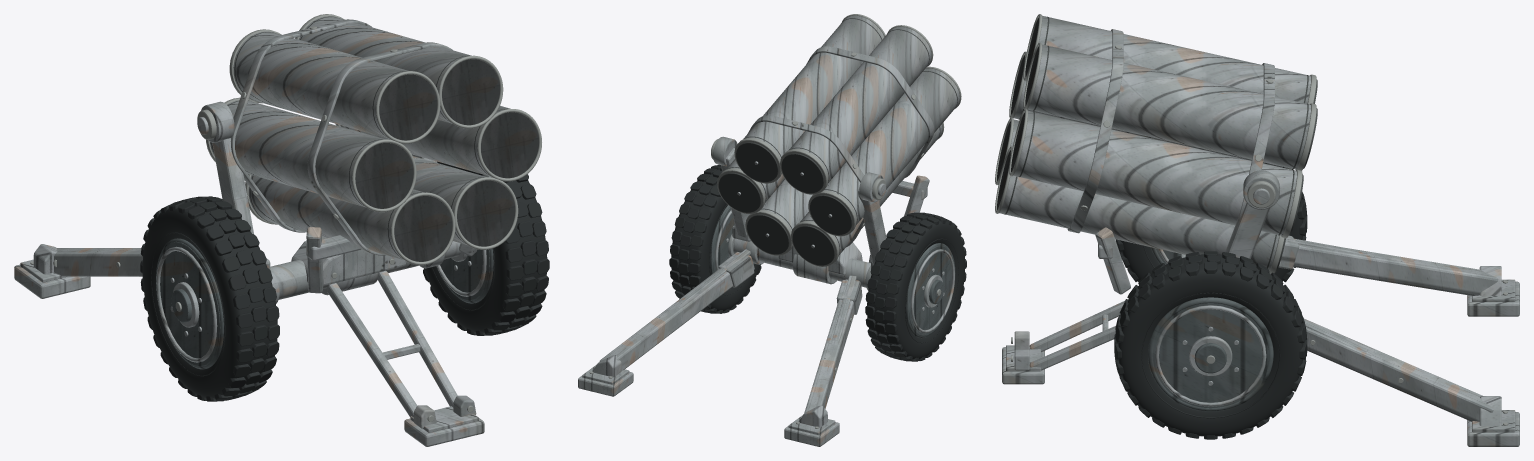
Rendered from firefox-static.glb.
The picture shows the model from 3 angles, left to right: view 1: azimuth 30°, elevation 25°; view 2: azimuth 150°, elevation 25°; view 3: azimuth 270°, elevation 25°; orthographic projection. The views are drawn at different scales.
Visible parts, largest first — view 1: N41_Solid_Tube_3, N41_Solid_Tube_4, N41_Wheel_Carcass_-1, N41_Solid_Tube_5, N41_Solid_Tube_2, N41_Solid_Tube_1, N41_Solid_Tube_6, N41_Wheel_Carcass_1, N41_Wheel_Disc_-1_-1, N41_Trail_Beam_-1, N41_Exterior_Bundle_Band_1, N41_Exterior_Bundle_Band_2 (+22 smaller); view 2: N41_Solid_Tube_3, N41_Solid_Tube_4, N41_Solid_Tube_2, N41_Wheel_Carcass_-1, N41_Trail_Beam_1, N41_Wheel_Carcass_1, N41_Wheel_Disc_-1_-1, N41_Trail_Beam_-1, N41_Exterior_Bundle_Band_1, N41_Solid_Tube_6, N41_Shallow_Dark_End_1_1, N41_Shallow_Dark_End_3_1 (+31 smaller); view 3: N41_Solid_Tube_2, N41_Solid_Tube_1, N41_Wheel_Carcass_1, N41_Solid_Tube_6, N41_Solid_Tube_3, N41_Wheel_Disc_1_1, N41_Trail_Beam_1, N41_Trail_Beam_-1, N41_Exterior_Bundle_Band_1, N41_Rolled_Rim_Lip_1_1, N41_Inner_Disc_Recess_1_1, N41_Exterior_Bundle_Band_2 (+15 smaller).
Boxes of the visible parts, <box> form: N41_Solid_Tube_3: <box>233,31,437,140</box>; N41_Solid_Tube_4: <box>210,100,413,208</box>; N41_Wheel_Carcass_-1: <box>142,203,277,398</box>; N41_Solid_Tube_5: <box>248,175,452,261</box>; N41_Solid_Tube_2: <box>299,16,499,125</box>; N41_Solid_Tube_1: <box>340,105,538,178</box>; N41_Solid_Tube_6: <box>412,156,515,246</box>; N41_Wheel_Carcass_1: <box>424,161,547,332</box>; N41_Wheel_Disc_-1_-1: <box>156,241,220,366</box>; N41_Trail_Beam_-1: <box>54,248,142,276</box>; N41_Exterior_Bundle_Band_1: <box>307,42,490,255</box>; N41_Exterior_Bundle_Band_2: <box>230,19,371,232</box>; N41_Solid_Tube_3: <box>789,27,931,182</box>; N41_Solid_Tube_4: <box>824,68,959,224</box>; N41_Solid_Tube_2: <box>743,15,884,158</box>; N41_Wheel_Carcass_-1: <box>867,217,965,359</box>; N41_Trail_Beam_1: <box>599,252,754,370</box>; N41_Wheel_Carcass_1: <box>671,169,760,311</box>; N41_Wheel_Disc_-1_-1: <box>908,245,955,336</box>; N41_Trail_Beam_-1: <box>804,279,858,412</box>; N41_Exterior_Bundle_Band_1: <box>806,46,934,177</box>; N41_Solid_Tube_6: <box>761,179,812,230</box>; N41_Shallow_Dark_End_1_1: <box>718,172,761,212</box>; N41_Shallow_Dark_End_3_1: <box>781,153,824,193</box>; N41_Solid_Tube_2: <box>1025,44,1310,169</box>; N41_Solid_Tube_1: <box>1011,110,1296,235</box>; N41_Wheel_Carcass_1: <box>1118,254,1303,436</box>; N41_Solid_Tube_6: <box>997,150,1279,270</box>; N41_Solid_Tube_3: <box>1025,15,1310,103</box>; N41_Wheel_Disc_1_1: <box>1152,303,1268,408</box>; N41_Trail_Beam_1: <box>1304,318,1493,421</box>; N41_Trail_Beam_-1: <box>1293,244,1498,295</box>; N41_Exterior_Bundle_Band_1: <box>1067,29,1123,233</box>; N41_Rolled_Rim_Lip_1_1: <box>1148,297,1273,411</box>; N41_Inner_Disc_Recess_1_1: <box>1155,305,1266,406</box>; N41_Exterior_Bundle_Band_2: <box>1225,63,1274,252</box>.
Size of the model in its own units: 1.86 by 1.92 by 2.69.
Materials: 12 (9 with a texture image).
